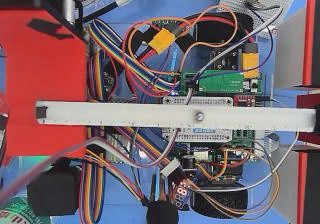ironball: (195, 111, 203, 120)
